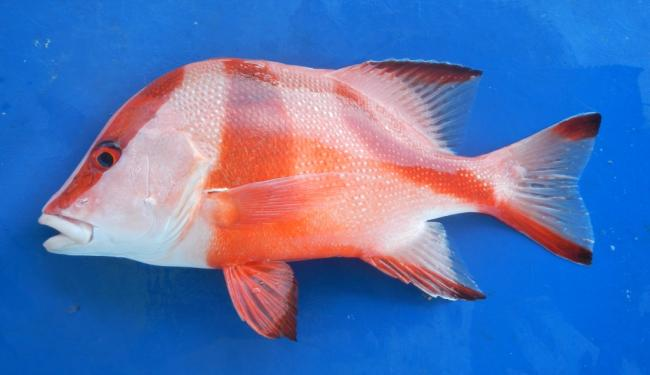fish: (37, 58, 603, 342)
